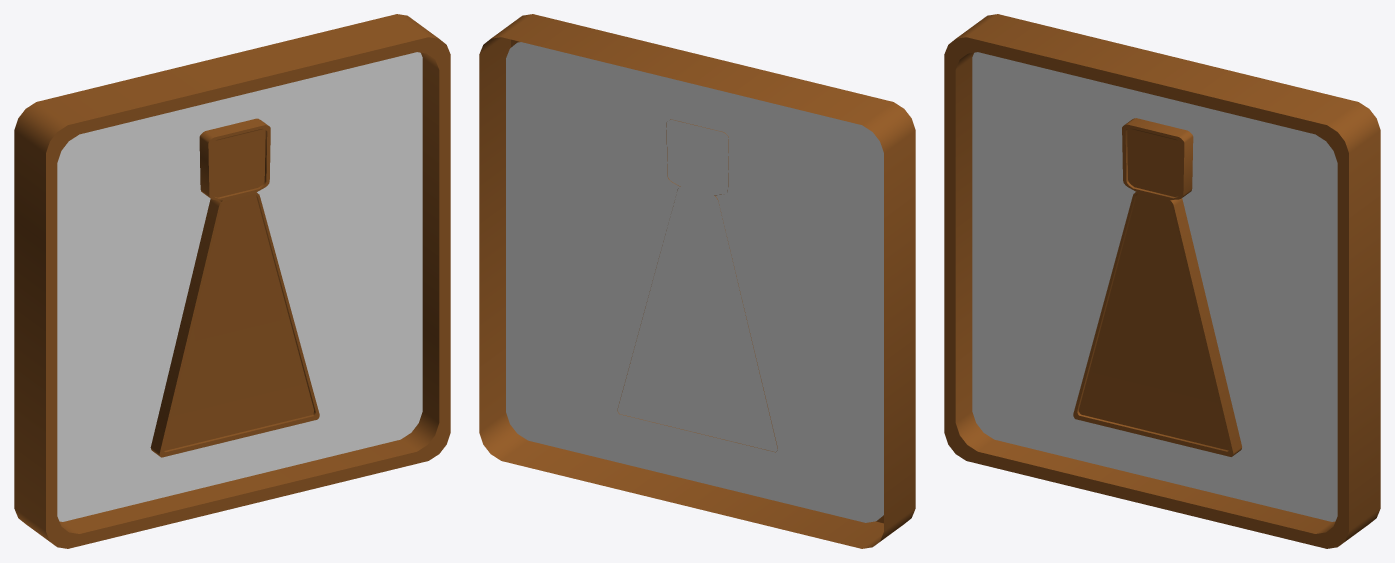
Rendered from lady.fbx.
3 renders of one model, left to right at view 1: azimuth 30°, elevation 25°; view 2: azimuth 150°, elevation 25°; view 3: azimuth 330°, elevation 25°, orthographic.
Visible parts, largest first — view 1: lady; view 2: lady; view 3: lady.
Boxes of the visible parts, x1,y1,x2,y2 form: lady: (14,14,450,548); lady: (479,14,915,548); lady: (944,14,1380,548).
Size of the model in its own units: 51.02 by 51.02 by 6.91.
